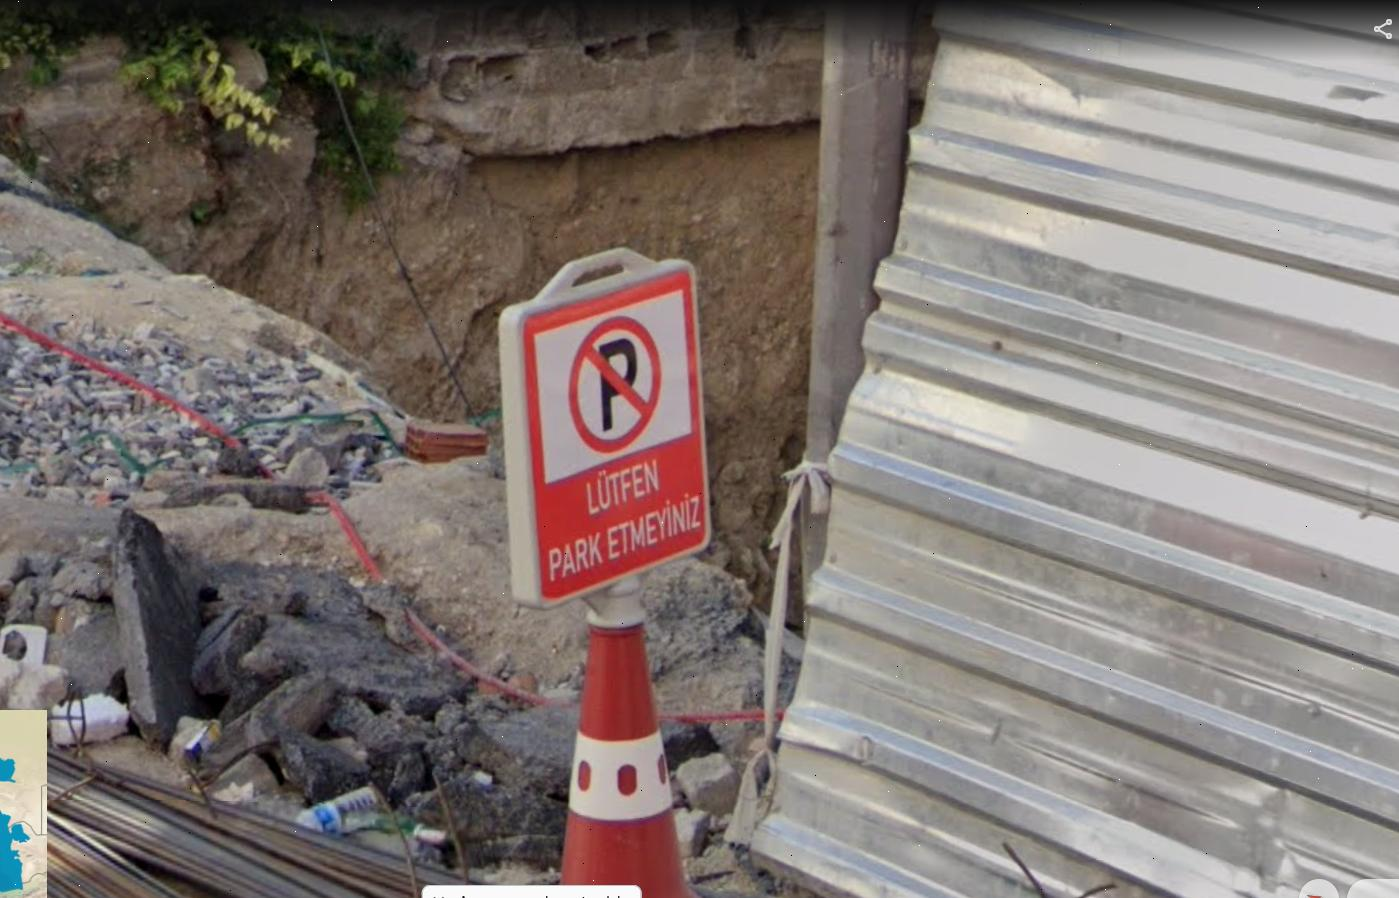nopark: (573, 327, 657, 431)
